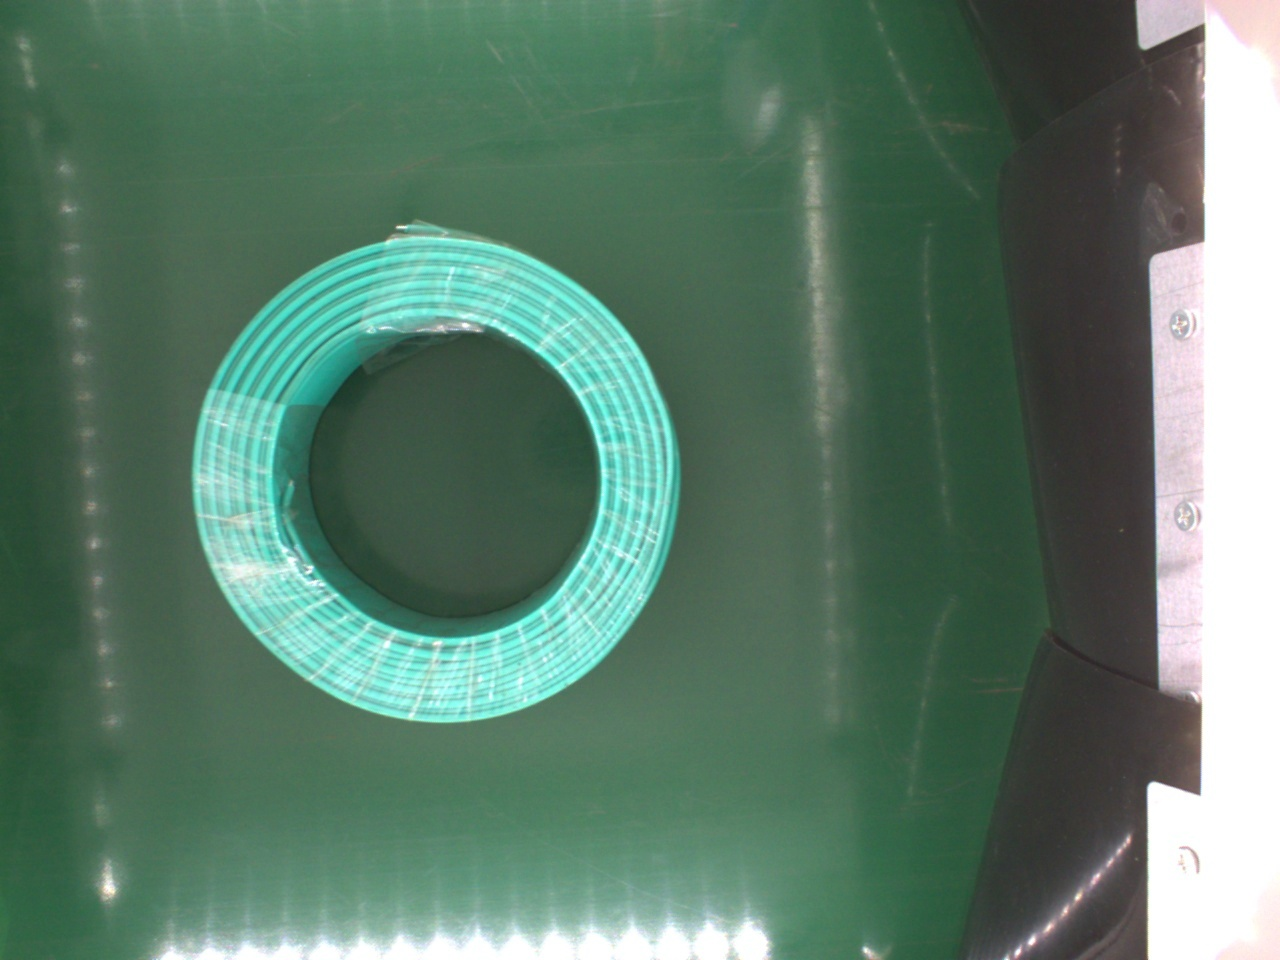green: (188, 229, 677, 726)
